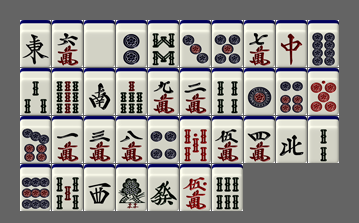0m: (180, 164, 211, 211)
0p: (308, 68, 339, 115)
0s: (180, 116, 211, 163)
1m: (52, 116, 83, 163)
1p: (244, 68, 275, 115)
1s: (116, 164, 147, 211)
1z: (20, 20, 51, 67)
2m: (180, 68, 211, 115)
2p: (116, 20, 147, 67)
2s: (308, 116, 339, 163)
2z: (84, 68, 115, 115)
3m: (84, 116, 115, 163)
3p: (180, 20, 211, 67)
3s: (20, 68, 51, 115)
3z: (84, 164, 115, 211)
4m: (244, 116, 275, 163)
4p: (148, 116, 179, 163)
4s: (212, 68, 243, 115)
4z: (276, 116, 307, 163)
5m: (212, 116, 243, 163)
5p: (212, 20, 243, 67)
5s: (52, 164, 83, 211)
5z: (84, 20, 115, 67)
6m: (52, 20, 83, 67)
6p: (276, 68, 307, 115)
6s: (212, 164, 243, 211)
6z: (148, 164, 179, 211)
7m: (244, 20, 275, 67)
7p: (20, 116, 51, 163)
7s: (116, 68, 147, 115)
7z: (276, 20, 307, 67)
8m: (116, 116, 147, 163)
8p: (308, 20, 339, 67)
8s: (148, 20, 179, 67)
9m: (148, 68, 179, 115)
9p: (20, 164, 51, 211)
9s: (52, 68, 83, 115)
